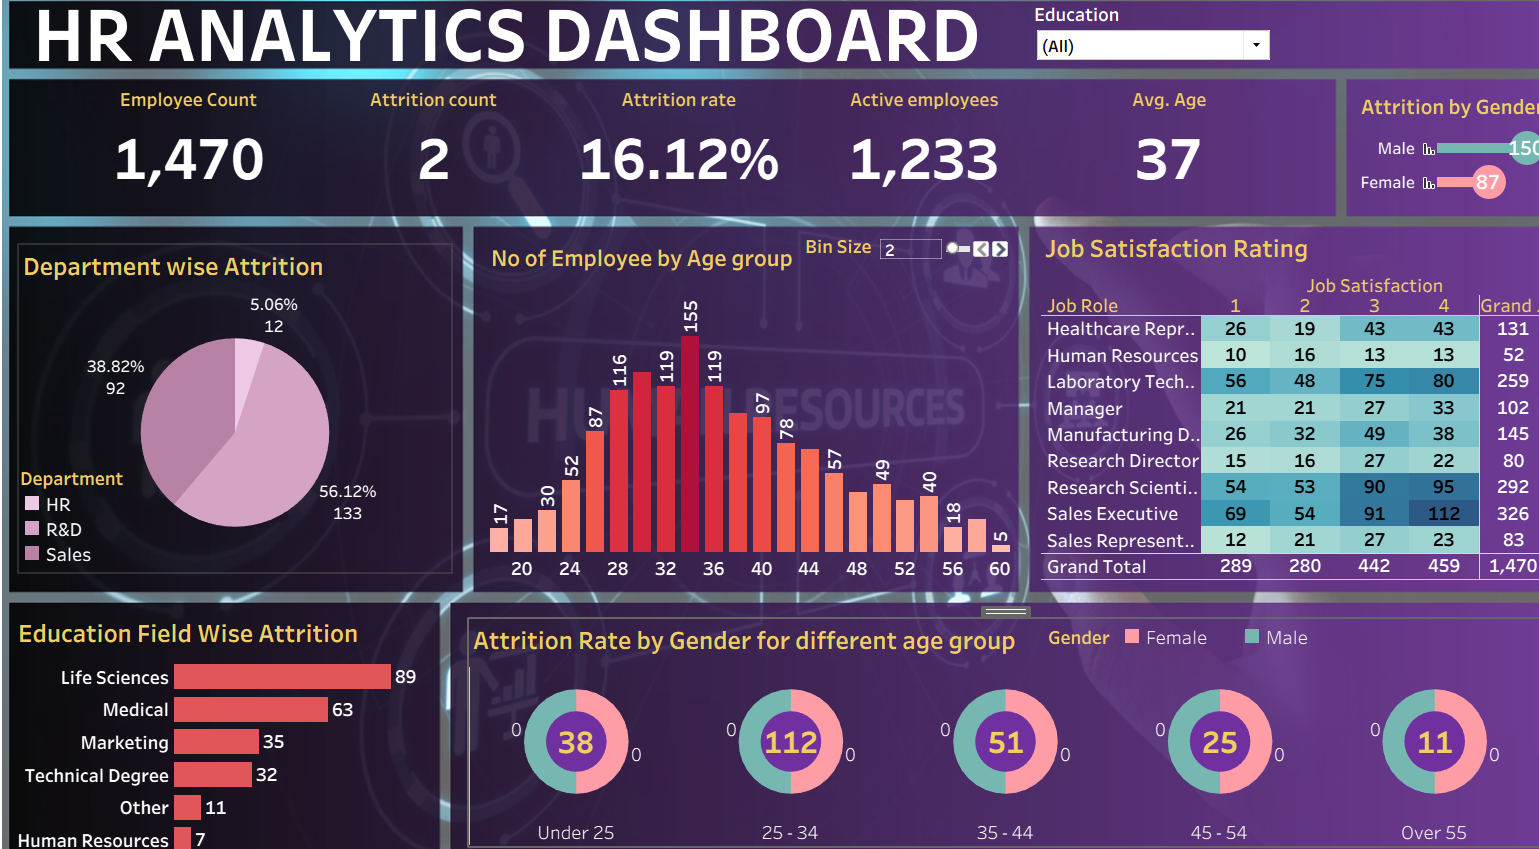

The page's visual inventory and layout, read from the dashboard file:
{"tool":"tableau","page":{"name":"HR ANALYTICS DASHBOARD","canvas":[1580,900],"ordinal":0},"visuals":[{"type":"image","param":"C:/Users/sabuk/OneDrive/Pictures/Documents/HR FINAL DB.png","box":[8,8,1564,884]},{"type":"text","box":[39,17,1331,65]},{"type":"filter","title":"No of Employee by Age group","param":"[federated.19vggk41xc25uy134k5uq1ychzqb].[none:Education:nk]","box":[1044,19,239,65]},{"type":"worksheet","title":"Attrition by Gender","mark":"Automatic","rows":["Gender"],"cols":["Calculation_458804250872172544","Calculation_458804250872172544"],"box":[1367,106,192,111]},{"type":"worksheet","title":"KPI","mark":"Automatic","box":[76,106.9,1226,115.4]},{"type":"worksheet","title":"Job Satisfaction Rating","mark":"Square","rows":["Job Role"],"cols":["Job Satisfaction"],"box":[1051,245,508,353]},{"type":"parameter","param":"[Parameters].[Parameter 1]","box":[815,254,206,42]},{"type":"worksheet","title":"No of Employee by Age group","mark":"Automatic","rows":["Employee Count"],"cols":["Age (bin)"],"box":[497,256,526,343]},{"type":"worksheet","title":"Department wise Attrition","mark":"Pie","box":[29,263,432,327]},{"type":"legend","title":"Department wise Attrition","param":"[federated.19vggk41xc25uy134k5uq1ychzqb].[none:Department:nk]","box":[30,483,133,111]},{"type":"worksheet","title":"Education Field Wise Attrition","mark":"Automatic","rows":["Education Field"],"cols":["Calculation_458804250872172544"],"box":[24,630,418,244]},{"type":"worksheet","title":"Attrition Rate by Gender for different age group","mark":"Pie","rows":["Calculation_3418513631548162050","Calculation_3418513631548162050"],"cols":["CF_age band"],"box":[479,637,1074,227]},{"type":"legend","title":"Attrition Rate by Gender for different age group","param":"[federated.19vggk41xc25uy134k5uq1ychzqb].[none:Gender:nk]","box":[1058,642,469,28]}]}

Visuals, with their boxes on the page's 1580x900 design canvas (x1, y1, x2, y2). These are canvas units, not pixel positions in the 1539x849 screenshot, which may show the page scaled, cropped or inside an application window:
image: crop(8, 8, 1572, 892)
text: crop(39, 17, 1370, 82)
"No of Employee by Age group" filter: crop(1044, 19, 1283, 84)
"Attrition by Gender" worksheet: crop(1367, 106, 1559, 217)
"KPI" worksheet: crop(76, 107, 1302, 222)
"Job Satisfaction Rating" worksheet (Square marks): crop(1051, 245, 1559, 598)
parameter: crop(815, 254, 1021, 296)
"No of Employee by Age group" worksheet: crop(497, 256, 1023, 599)
"Department wise Attrition" worksheet (Pie marks): crop(29, 263, 461, 590)
"Department wise Attrition" legend: crop(30, 483, 163, 594)
"Education Field Wise Attrition" worksheet: crop(24, 630, 442, 874)
"Attrition Rate by Gender for different age group" worksheet (Pie marks): crop(479, 637, 1553, 864)
"Attrition Rate by Gender for different age group" legend: crop(1058, 642, 1527, 670)
